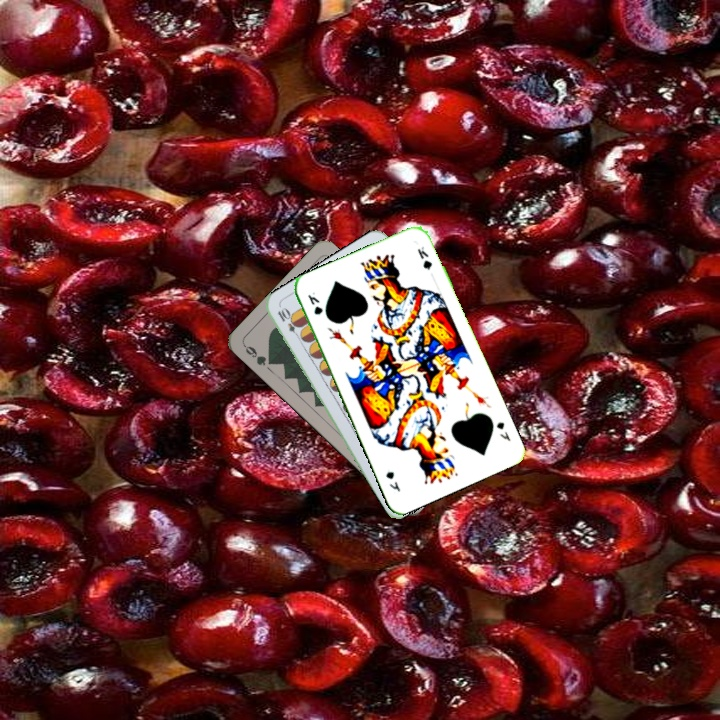E10: (273, 304, 304, 341)
G9: (240, 341, 277, 368)
GK: (304, 291, 326, 317), (492, 418, 513, 444)
